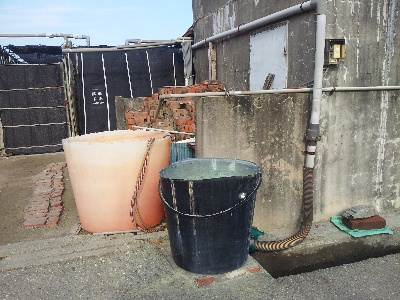bucket: (158, 157, 263, 276), (61, 129, 172, 232)
